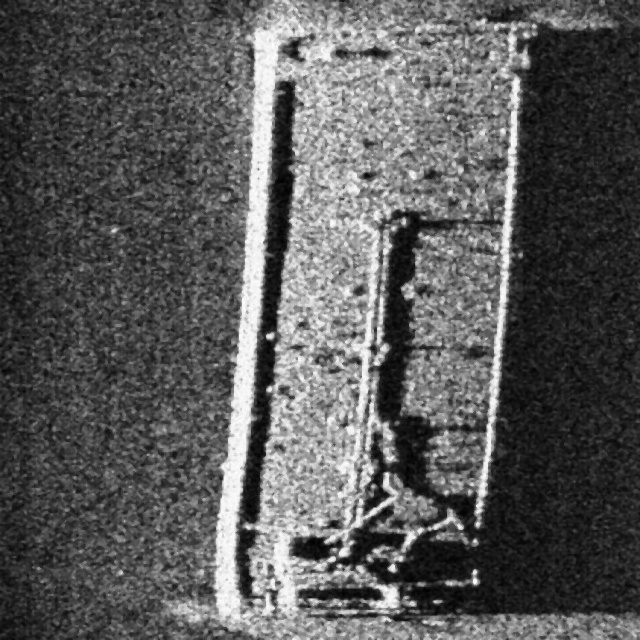Ship: (181, 16, 555, 628)
